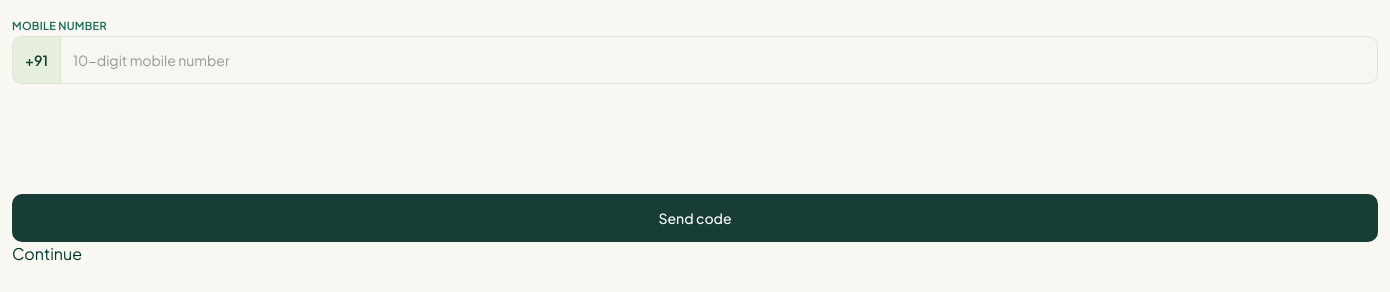
Test: MobileOtpForm › inside another form (onboarding) › sends the code on Enter without submitting the surrounding form
Expected: the button "Send code" is enabled, [12,194,1378,242]
Type "9876543210" into the field labelled "Mobile number" at (719, 60), box [60,36,1378,84]
Then press Enter
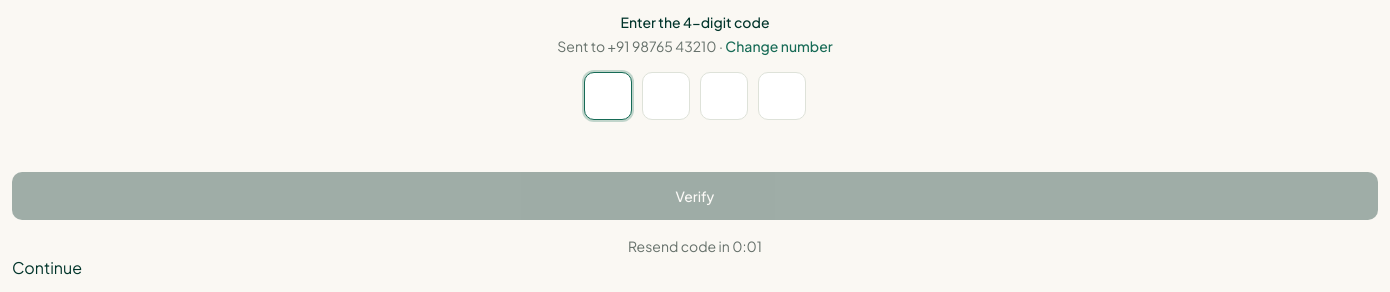
Expected: the text "Enter the 4-digit code" is shown, [620,13,770,31]
